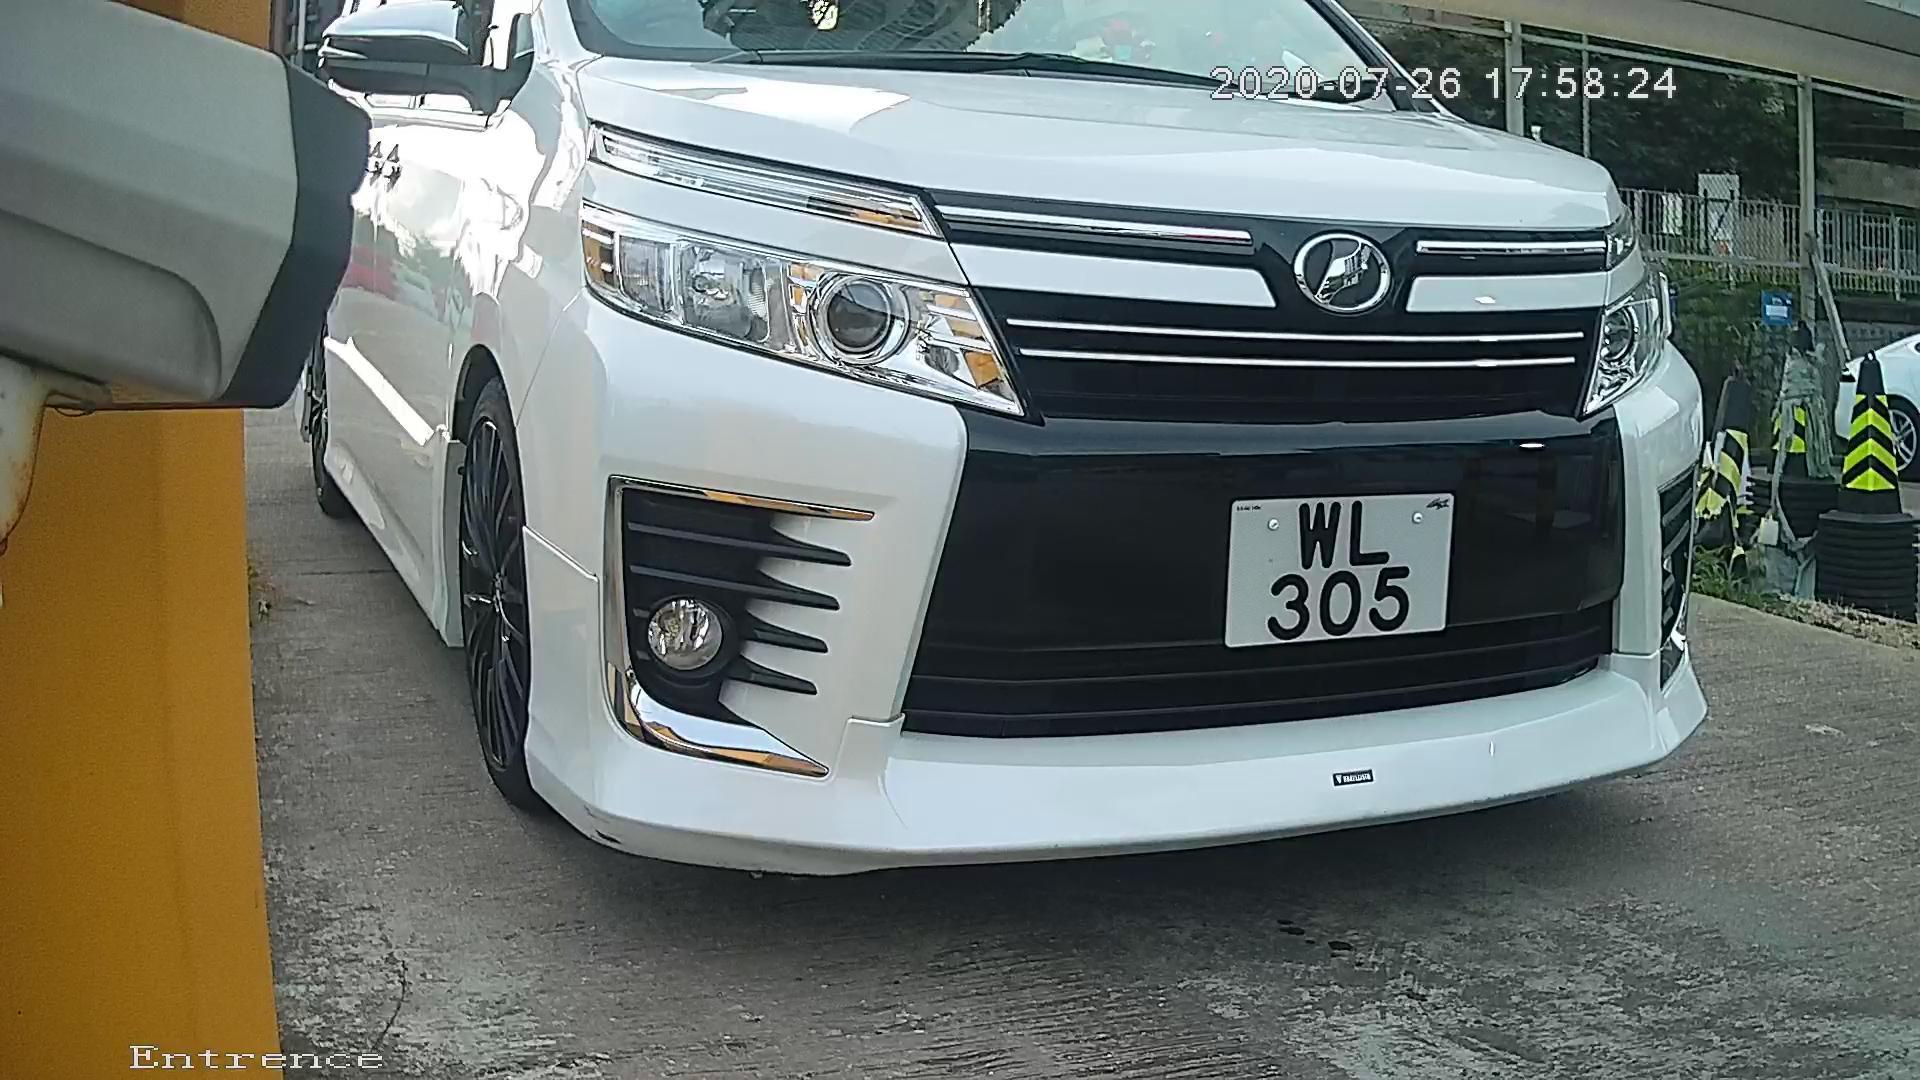License Plate: (1192, 473, 1483, 661)
